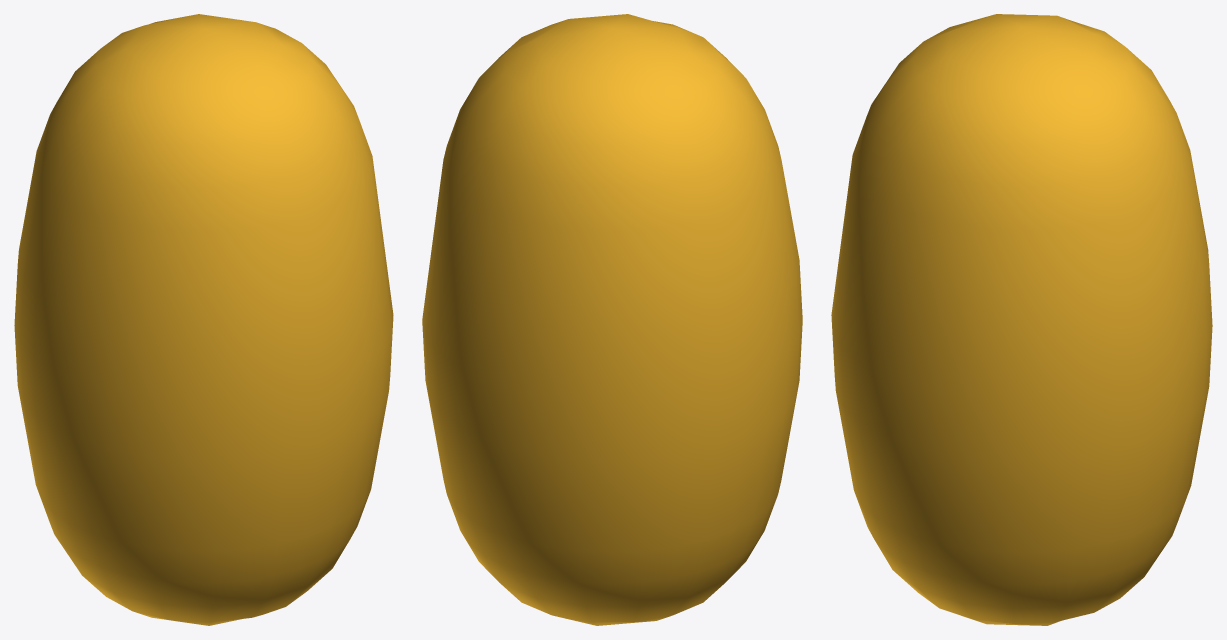
Rendered from nervoso-posterior-cochlear-nucleus-l.glb.
3 renders of one model, left to right at view 1: azimuth 30°, elevation 25°; view 2: azimuth 150°, elevation 25°; view 3: azimuth 270°, elevation 25°, orthographic.
Visible parts, largest first — view 1: Posterior cochlear nucleus.l; view 2: Posterior cochlear nucleus.l; view 3: Posterior cochlear nucleus.l.
Boxes of the visible parts, x1=… form: Posterior cochlear nucleus.l: x1=14, y1=14, x2=393, y2=625; Posterior cochlear nucleus.l: x1=422, y1=14, x2=802, y2=625; Posterior cochlear nucleus.l: x1=831, y1=14, x2=1212, y2=625.
Size of the model in its own units: 0.0019 by 0.00323 by 0.0019.
